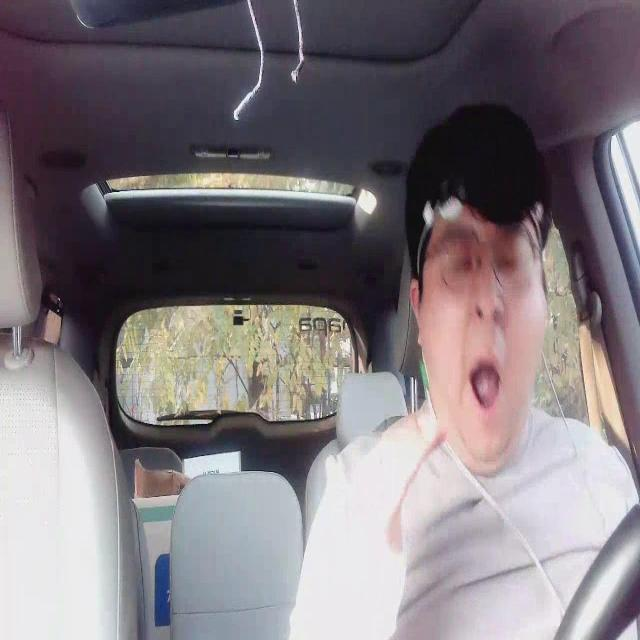Yawning: (468, 357, 502, 409)
